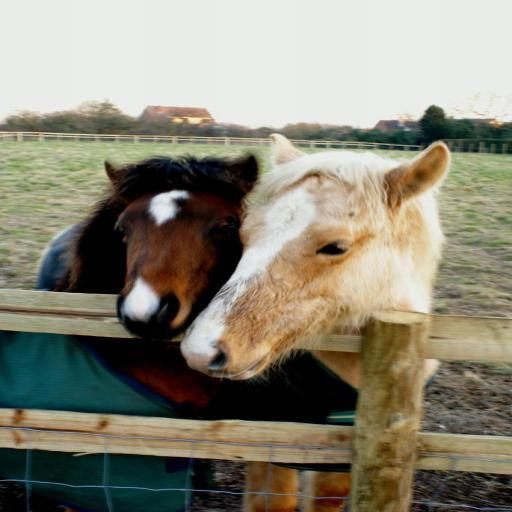horse: (36, 150, 363, 508), (182, 137, 450, 510)
